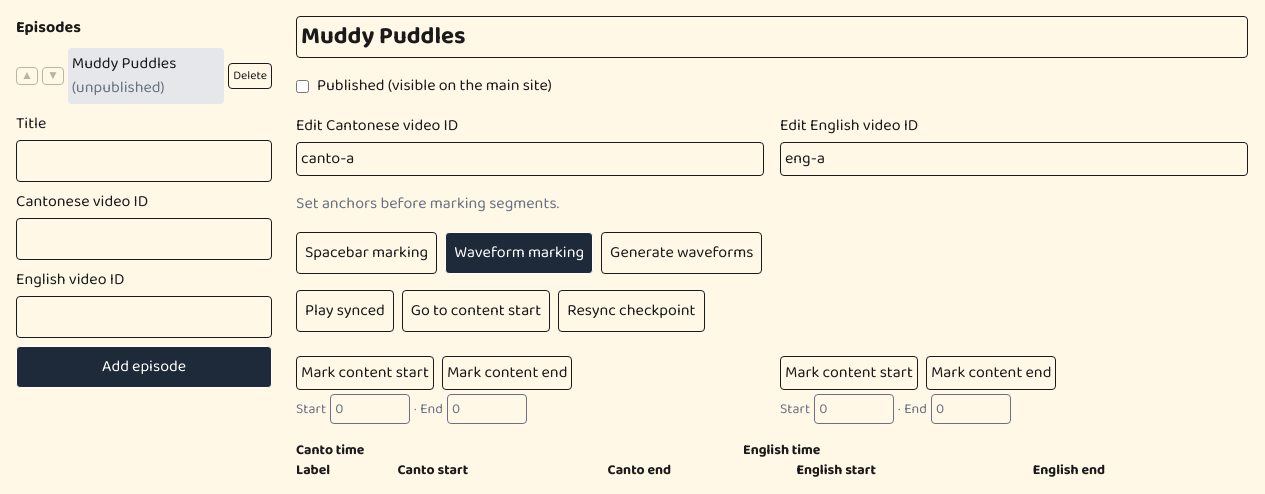
Test: Admin › toggles the published state and reflects it in the episode list label
Expected: the text "(unpublished)" is shown, [72,75,165,100]
Click the checkbox labelled "Published (visible on the main site)" at (302, 86), box [296,80,309,92]
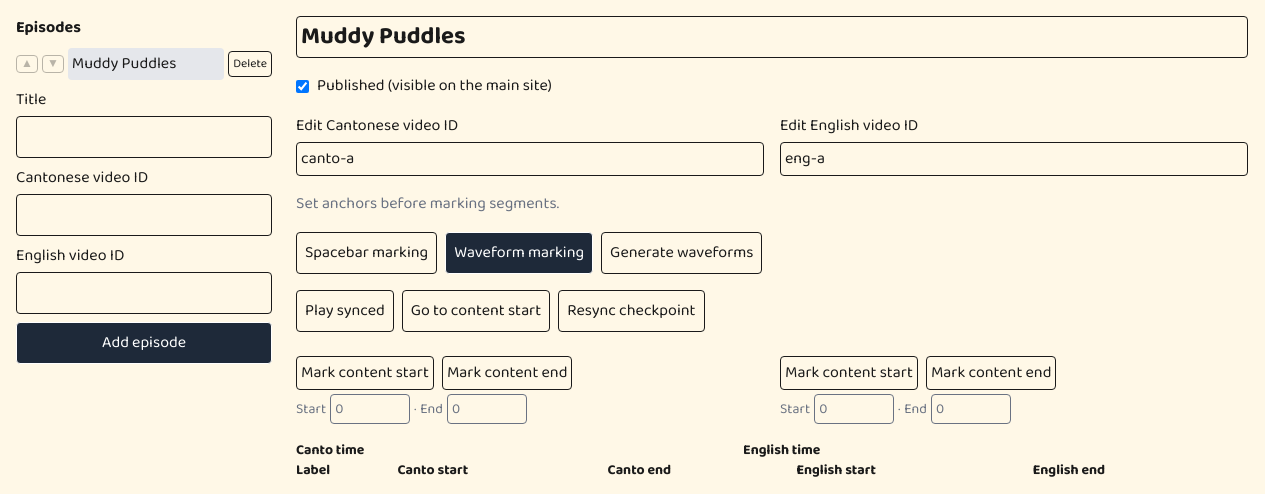
Result: the text "(unpublished)" is gone
